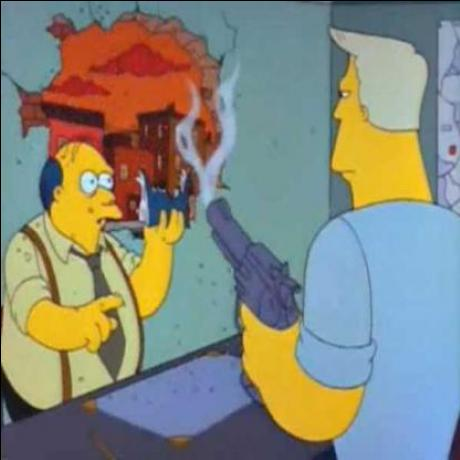weapon: (198, 195, 301, 401)
